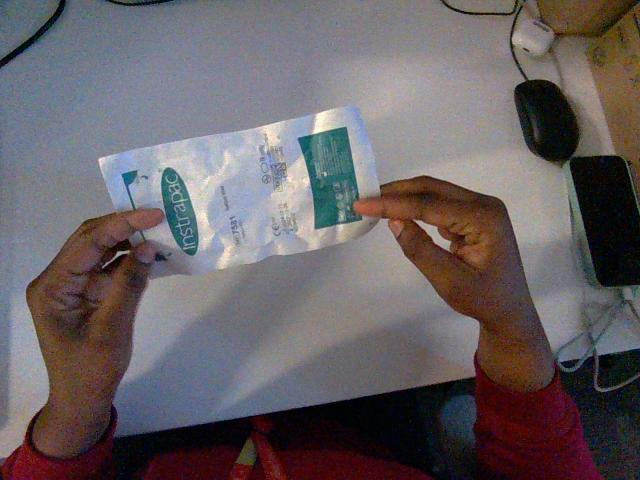gallipot: (99, 107, 379, 276)
